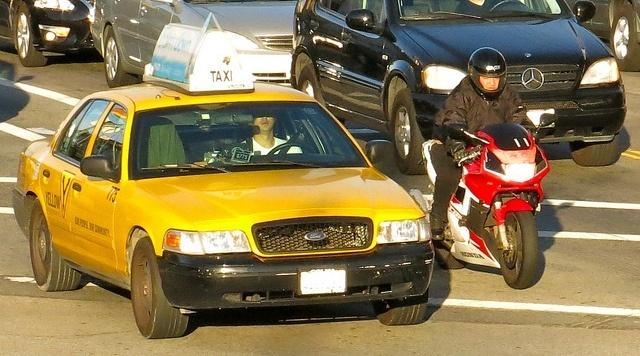car: (9, 18, 446, 339), (290, 0, 630, 175), (92, 0, 293, 88), (0, 0, 95, 67), (570, 0, 640, 71)
